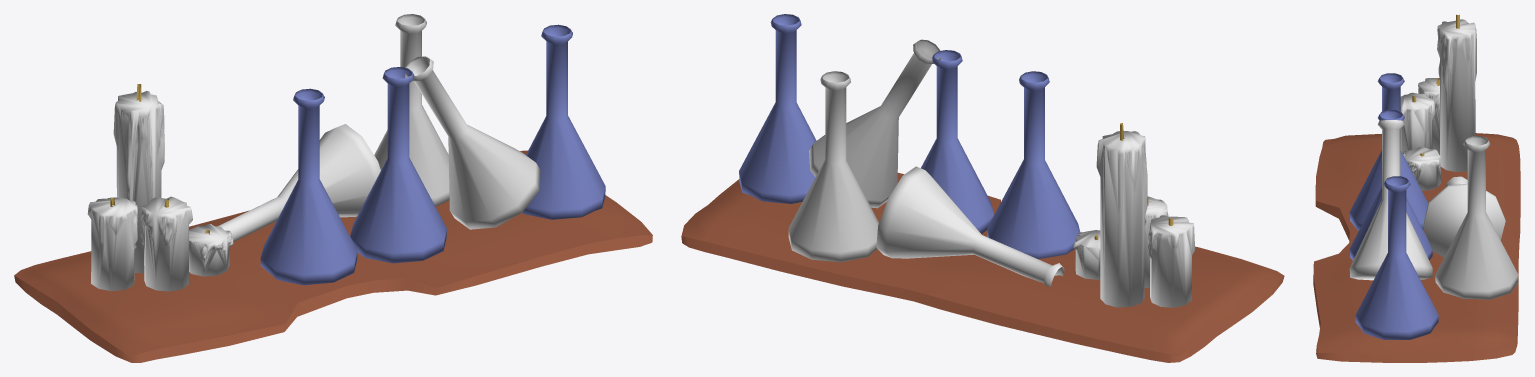
File: Półka3.fbx
3 views of the same model, side by side, from view 1: azimuth 30°, elevation 25°; view 2: azimuth 150°, elevation 25°; view 3: azimuth 270°, elevation 25° (orthographic). The views are drawn at different scales.
Parts seen in each view (by area): view 1: półka.001, Cone.001, Cone, Cone.002, Cone.005, świeczka.002, Cone.003, Cone.004, świeczka.001, świeczka, świeczka.003; view 2: półka.001, Cone.004, Cone.003, świeczka.002, Cone, Cone.005, Cone.002, Cone.001, świeczka, świeczka.003, świeczka.001; view 3: półka.001, Cone.005, Cone.004, świeczka.002, Cone.002, Cone.003, Cone, świeczka.001, Cone.001, świeczka.003, świeczka.
Boxes of the visible parts, bbox=[...] form: półka.001: bbox=[14, 150, 652, 362]; Cone.001: bbox=[350, 67, 446, 263]; Cone: bbox=[260, 88, 357, 285]; Cone.002: bbox=[405, 56, 540, 229]; Cone.005: bbox=[522, 24, 605, 219]; świeczka.002: bbox=[113, 84, 164, 273]; Cone.003: bbox=[218, 124, 380, 241]; Cone.004: bbox=[374, 14, 449, 206]; świeczka.001: bbox=[140, 196, 192, 291]; świeczka: bbox=[87, 197, 137, 290]; świeczka.003: bbox=[189, 224, 233, 276]; półka.001: bbox=[681, 173, 1284, 362]; Cone.004: bbox=[788, 71, 878, 262]; Cone.003: bbox=[876, 166, 1064, 286]; świeczka.002: bbox=[1096, 123, 1147, 307]; Cone: bbox=[987, 71, 1080, 258]; Cone.005: bbox=[739, 14, 816, 203]; Cone.002: bbox=[809, 39, 940, 208]; Cone.001: bbox=[921, 50, 994, 233]; świeczka: bbox=[1147, 215, 1195, 307]; świeczka.003: bbox=[1073, 230, 1100, 279]; świeczka.001: bbox=[1144, 196, 1168, 287]; półka.001: bbox=[1313, 133, 1520, 362]; Cone.005: bbox=[1355, 176, 1438, 339]; Cone.004: bbox=[1435, 136, 1518, 299]; świeczka.002: bbox=[1437, 14, 1476, 172]; Cone.002: bbox=[1349, 120, 1432, 280]; Cone.003: bbox=[1422, 176, 1505, 257]; Cone: bbox=[1349, 73, 1428, 230]; świeczka.001: bbox=[1400, 92, 1435, 153]; Cone.001: bbox=[1349, 110, 1432, 260]; świeczka.003: bbox=[1403, 147, 1440, 190]; świeczka: bbox=[1418, 78, 1439, 154].
Bounding box in the file's own units: 221 × 84.53 × 89.97.
